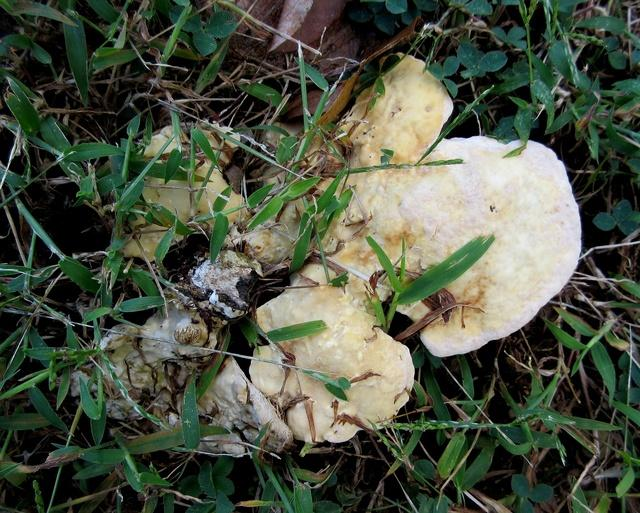poisonous_mushroom: (301, 51, 596, 350), (248, 266, 415, 444)
